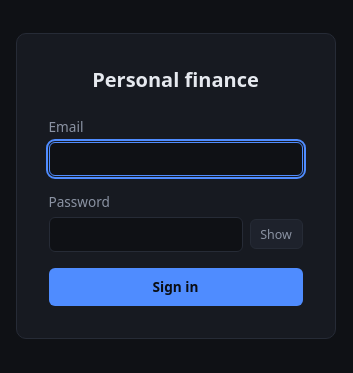
Test: LoginPage › announces a failed login as an alert, server sentence verbatim
Type "me@example.com" into the field labelled "Email" at (176, 159), box [48, 142, 302, 176]
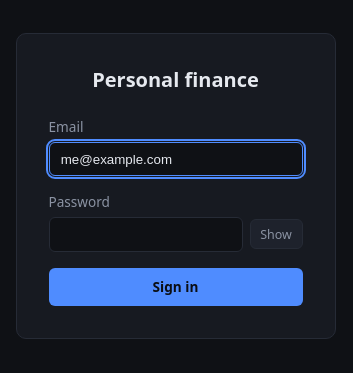
Type "hunter2" into the password field labelled "Password" at (146, 234), box [48, 217, 243, 252]
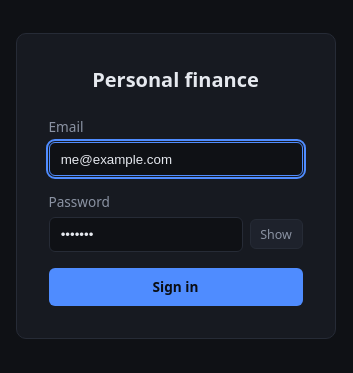
Click the button "Sign in" at (176, 287), box [48, 268, 302, 306]
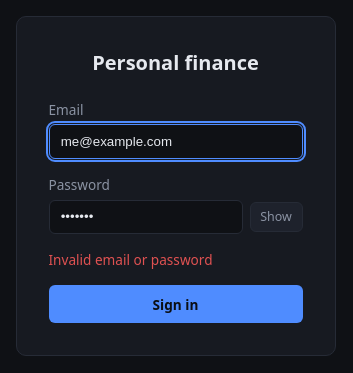
expect the message reads "Invalid email or password": met, box [48, 250, 212, 269]
